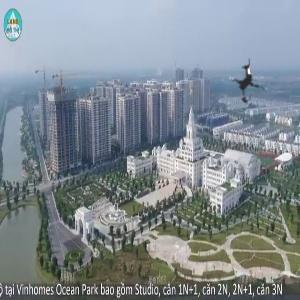drone: (210, 42, 291, 123)
